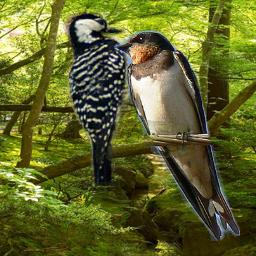Swallow: (113, 30, 240, 241)
Woodpecker: (63, 8, 156, 187)
